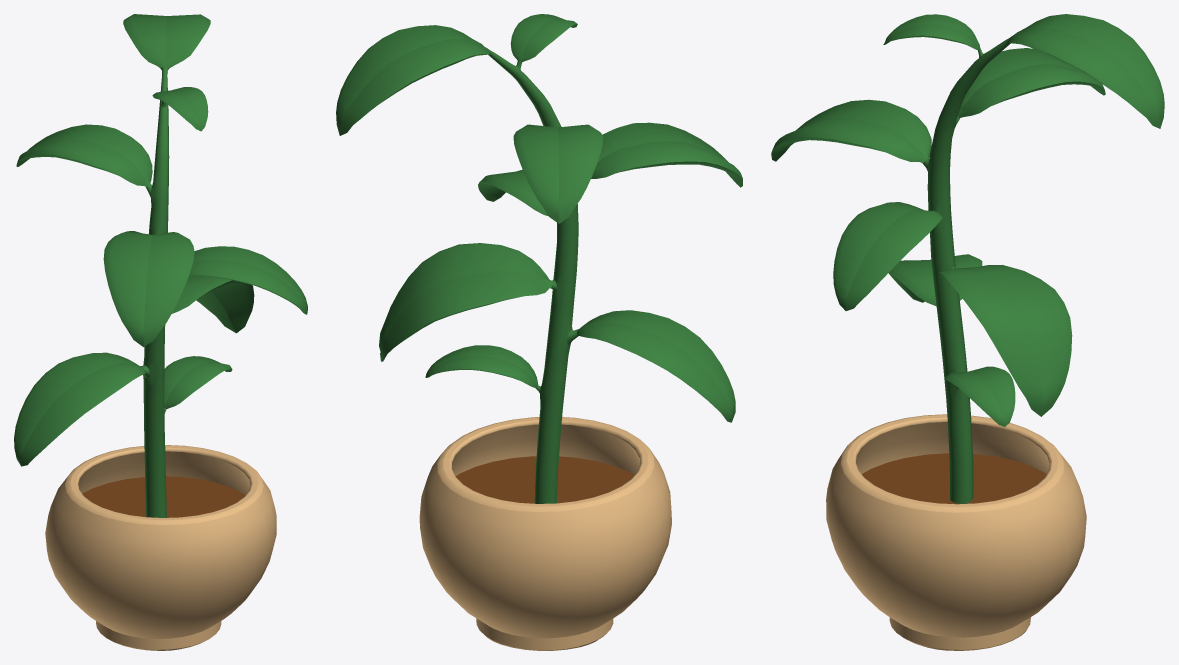
Rendered from Plant2.fbx.
The picture shows the model from 3 angles, left to right: view 1: azimuth 30°, elevation 25°; view 2: azimuth 150°, elevation 25°; view 3: azimuth 270°, elevation 25°; orthographic projection. The views are drawn at different scales.
Visible parts, largest first — view 1: Plant2; view 2: Plant2; view 3: Plant2.
Boxes of the visible parts, <box> form: Plant2: <box>14,14,307,650</box>; Plant2: <box>336,14,742,650</box>; Plant2: <box>771,14,1164,650</box>.
Bounding box in the file's own units: 0.6607 × 1.27 × 0.7254.
